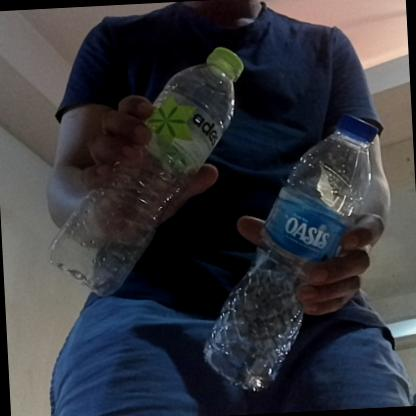plastic_bottles: (37, 43, 253, 295), (196, 110, 390, 390)
